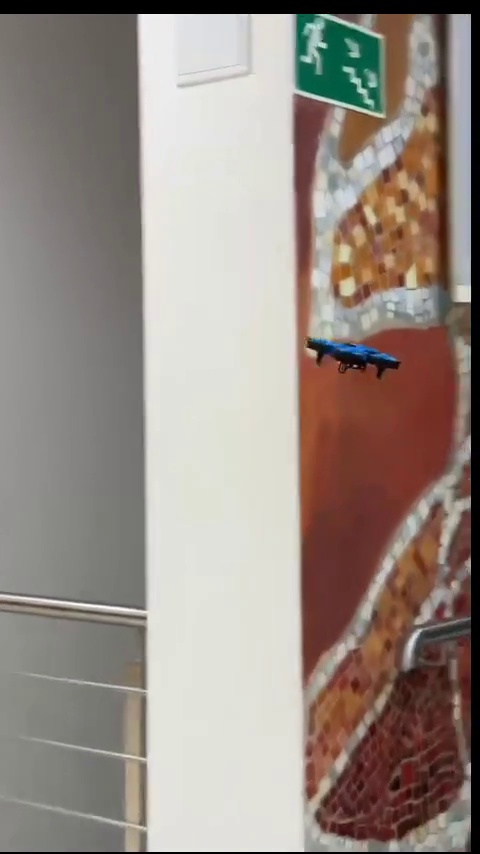drone: (304, 333, 408, 378)
